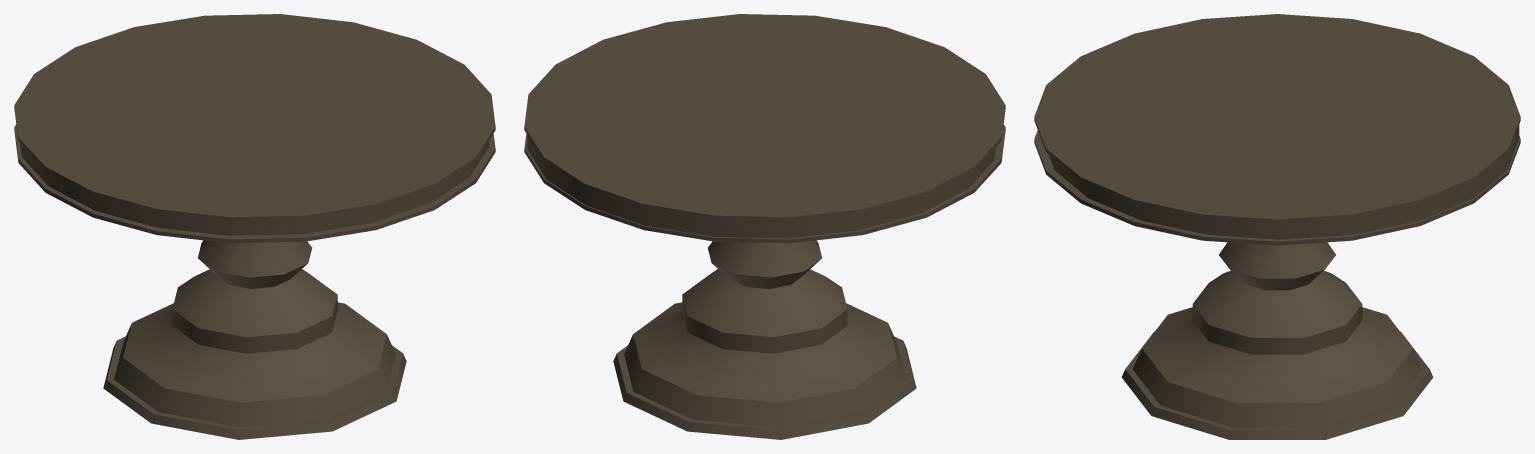
The model's file is Table Round 2.glb.
3 views of the same model, side by side, from view 1: azimuth 30°, elevation 25°; view 2: azimuth 150°, elevation 25°; view 3: azimuth 270°, elevation 25° (orthographic).
Parts seen in each view (by area): view 1: Table_RoundSmall_Cylinder.008; view 2: Table_RoundSmall_Cylinder.008; view 3: Table_RoundSmall_Cylinder.008.
Part boxes in pixels (bbox=[...]): Table_RoundSmall_Cylinder.008: bbox=[14, 14, 495, 439]; Table_RoundSmall_Cylinder.008: bbox=[524, 14, 1005, 439]; Table_RoundSmall_Cylinder.008: bbox=[1034, 14, 1520, 439].
Bounding box in the file's own units: 1.94 × 1.15 × 1.94.
